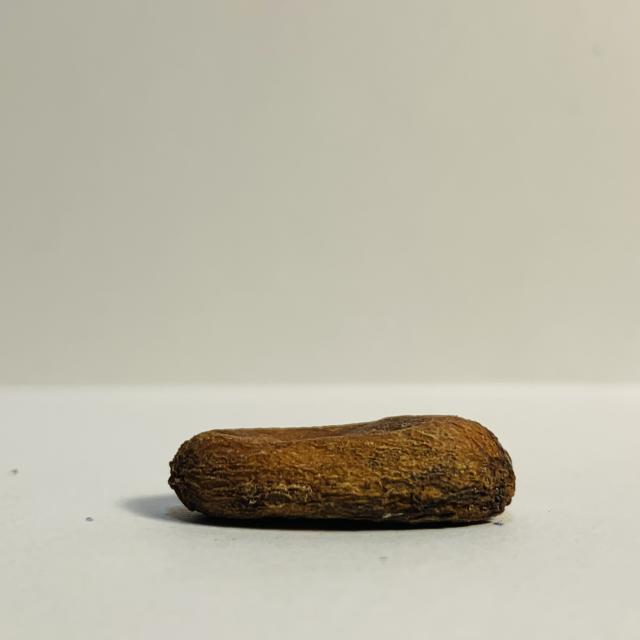Fine_cocoabeans: (122, 392, 565, 598)
